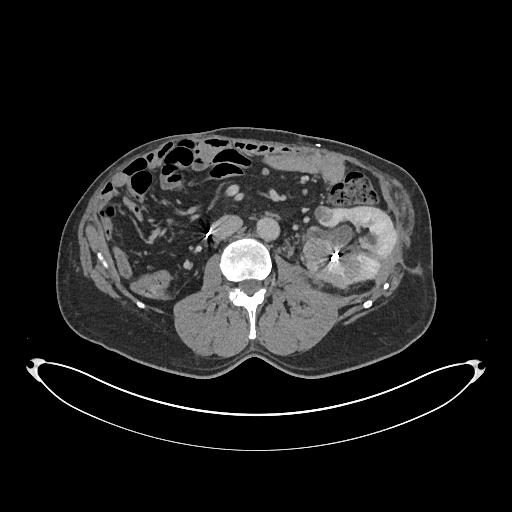Lesion: (309, 203, 336, 224)
